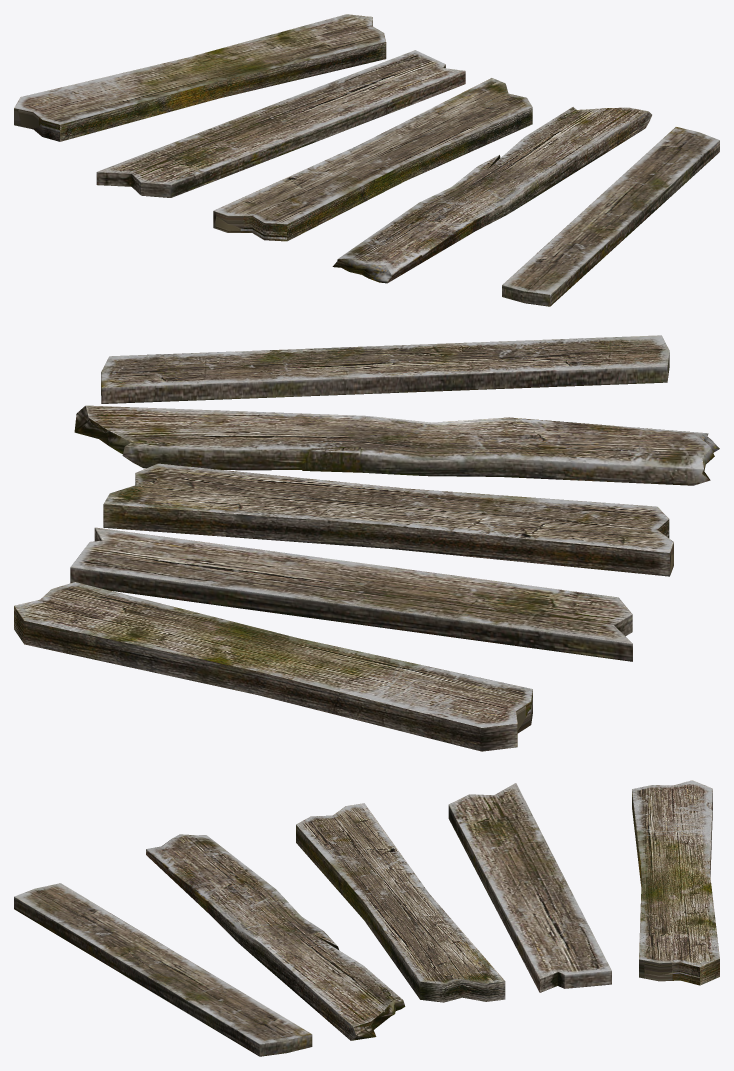
File: WoodRoadTurn_1.fbx
3 views of the same model, one above another, from view 1: azimuth 30°, elevation 25°; view 2: azimuth 150°, elevation 25°; view 3: azimuth 270°, elevation 25° (orthographic). The views are drawn at different scales.
Visible parts, largest first — view 1: prim0; view 2: prim0; view 3: prim0.
Part boxes in pixels (x1,y1,x2,y2): prim0: (14, 14, 719, 306); prim0: (14, 335, 719, 751); prim0: (14, 780, 719, 1056).
Size of the model in its own units: 235 by 7.71 by 271.
